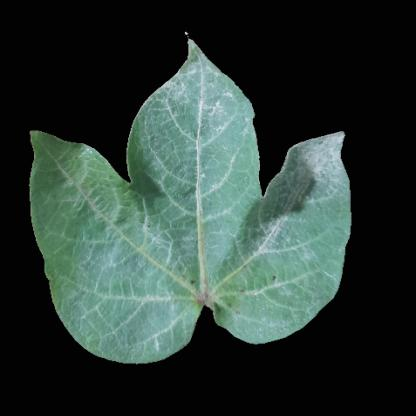healthy: (135, 133, 252, 309), (59, 209, 133, 339), (294, 198, 345, 290)
